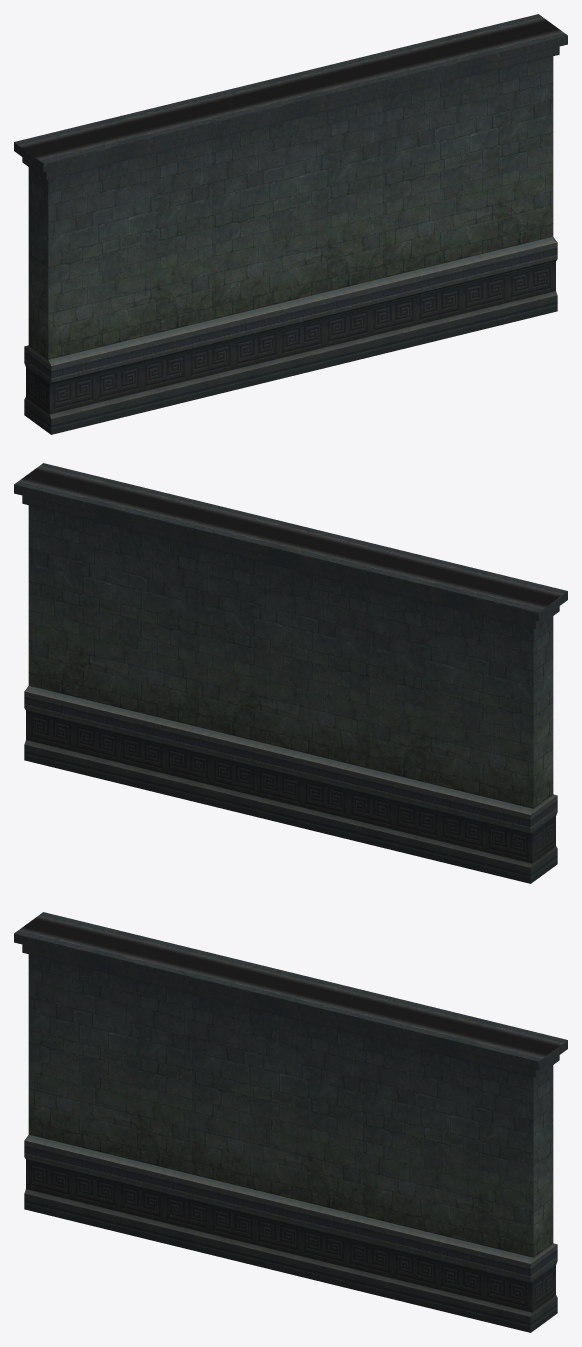
File: environment_common_digongwall_001_a.FBX
The picture shows the model from 3 angles, top to bottom: view 1: azimuth 30°, elevation 25°; view 2: azimuth 150°, elevation 25°; view 3: azimuth 330°, elevation 25°; orthographic projection.
Visible parts, largest first — view 1: environment_common_digongwall_001_a, environment_common_digongwall_001_b, environment_common_digongwall_001_c; view 2: environment_common_digongwall_001_a, environment_common_digongwall_001_b, environment_common_digongwall_001_c; view 3: environment_common_digongwall_001_a, environment_common_digongwall_001_b, environment_common_digongwall_001_c.
Boxes of the visible parts, x1,y1,x2,y2 form: environment_common_digongwall_001_a: (28,56,553,359); environment_common_digongwall_001_b: (24,236,557,434); environment_common_digongwall_001_c: (14,14,567,179); environment_common_digongwall_001_a: (28,505,553,808); environment_common_digongwall_001_b: (24,685,557,883); environment_common_digongwall_001_c: (14,463,567,628); environment_common_digongwall_001_a: (28,954,553,1257); environment_common_digongwall_001_b: (24,1134,557,1332); environment_common_digongwall_001_c: (14,912,567,1077).
Size of the model in its own units: 766 by 383 by 74.35.
